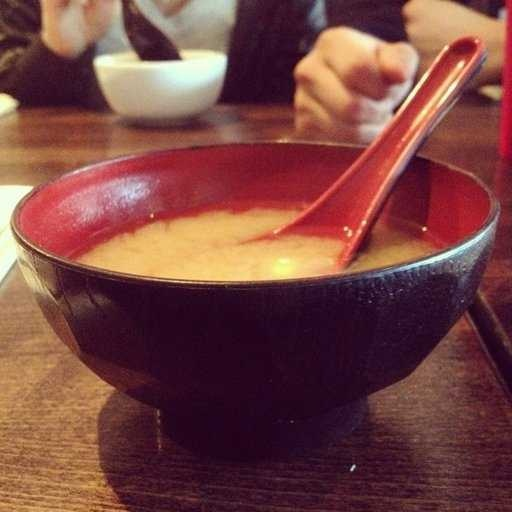soup: (77, 137, 450, 300)
